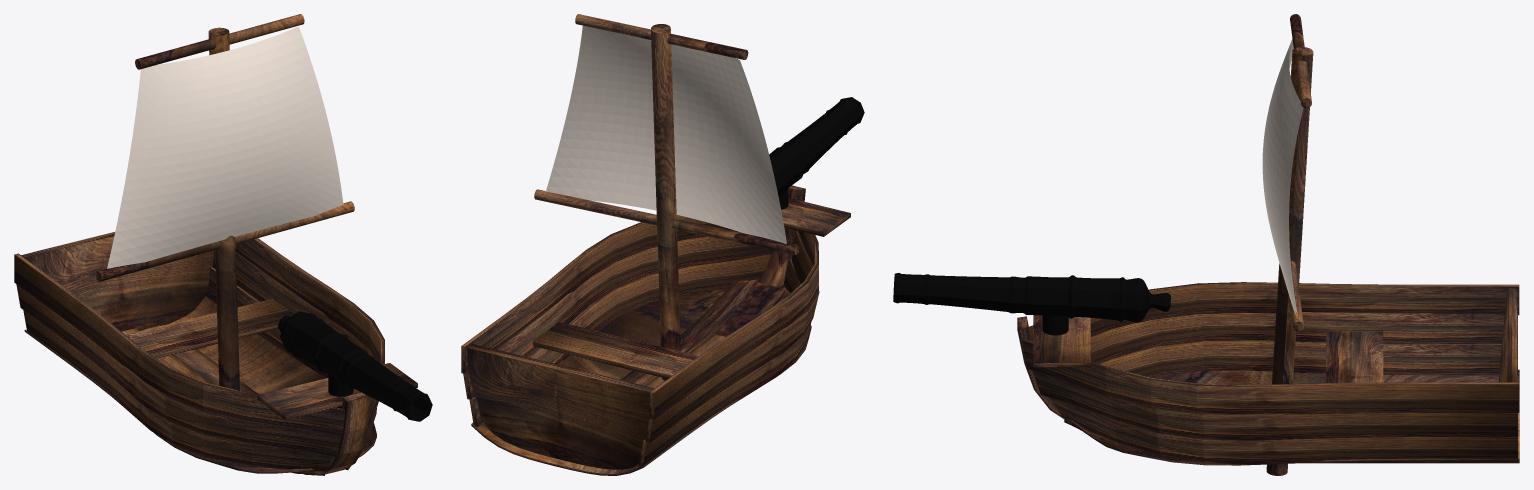
Rendered from sloep01.fbx.
3 views of the same model, side by side, from view 1: azimuth 30°, elevation 25°; view 2: azimuth 150°, elevation 25°; view 3: azimuth 270°, elevation 25° (orthographic). The views are drawn at different scales.
Visible parts, largest first — view 1: Plane, Cube_1_5, Cube_1_4, Cube_2, Cube_1_3, Gun, Cube_1, Cube_3, Cylinder_1, Cube, Cube_5, Cylinder_2 (+3 smaller); view 2: Plane_1, Cube_2, Cube_1_5, Cube_1_4, Cube_1_3, Cube_1, Cylinder_1, Cube_3, Gun, Cylinder_2, Cube_1_2, Cylinder_3 (+2 smaller); view 3: Cube_1_5, Cube_1_4, Cube_1_3, Gun, Plane, Cylinder_1, Cube_1, Cube_3, Cube_5, Cube_2, Cylinder_3, Cube.
Part boxes in pixels (left/top/right/bottom): Plane: left=108, top=27, right=343, bottom=268; Cube_1_5: left=14, top=238, right=384, bottom=436; Cube_1_4: left=16, top=250, right=378, bottom=457; Cube_2: left=21, top=232, right=214, bottom=331; Cube_1_3: left=23, top=267, right=376, bottom=471; Gun: left=278, top=311, right=432, bottom=421; Cube_1: left=24, top=296, right=376, bottom=473; Cube_3: left=125, top=298, right=294, bottom=358; Cylinder_1: left=208, top=27, right=239, bottom=390; Cube: left=122, top=328, right=371, bottom=475; Cube_5: left=257, top=363, right=417, bottom=419; Cylinder_2: left=95, top=201, right=354, bottom=281; Plane_1: left=546, top=25, right=786, bottom=243; Cube_2: left=467, top=344, right=654, bottom=469; Cube_1_5: left=461, top=215, right=818, bottom=419; Cube_1_4: left=463, top=231, right=819, bottom=443; Cube_1_3: left=469, top=254, right=811, bottom=466; Cube_1: left=471, top=279, right=811, bottom=475; Cylinder_1: left=651, top=24, right=680, bottom=380; Cube_3: left=532, top=322, right=698, bottom=378; Gun: left=769, top=97, right=864, bottom=197; Cylinder_2: left=534, top=189, right=799, bottom=255; Cube_1_2: left=621, top=279, right=789, bottom=385; Cylinder_3: left=575, top=14, right=748, bottom=59; Cube_1_5: left=1022, top=282, right=1519, bottom=414; Cube_1_4: left=1033, top=312, right=1517, bottom=440; Cube_1_3: left=1047, top=340, right=1517, bottom=464; Gun: left=893, top=273, right=1170, bottom=322; Plane: left=1262, top=39, right=1302, bottom=316; Cylinder_1: left=1266, top=47, right=1313, bottom=475; Cube_1: left=1069, top=369, right=1519, bottom=465; Cube_3: left=1326, top=331, right=1383, bottom=383; Cube_5: left=1033, top=315, right=1090, bottom=367; Cube_2: left=1499, top=288, right=1517, bottom=382; Cylinder_3: left=1290, top=14, right=1311, bottom=108; Cube: left=1017, top=316, right=1064, bottom=419.
Size of the model in its own units: 392 by 589 by 794.
Materials: 3 (1 with a texture image).
